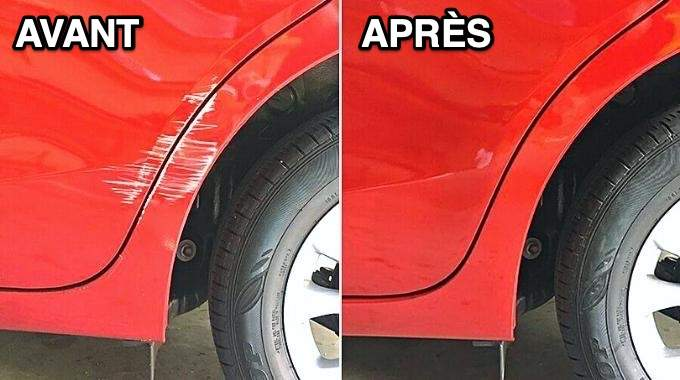scratch: (111, 76, 229, 219)
